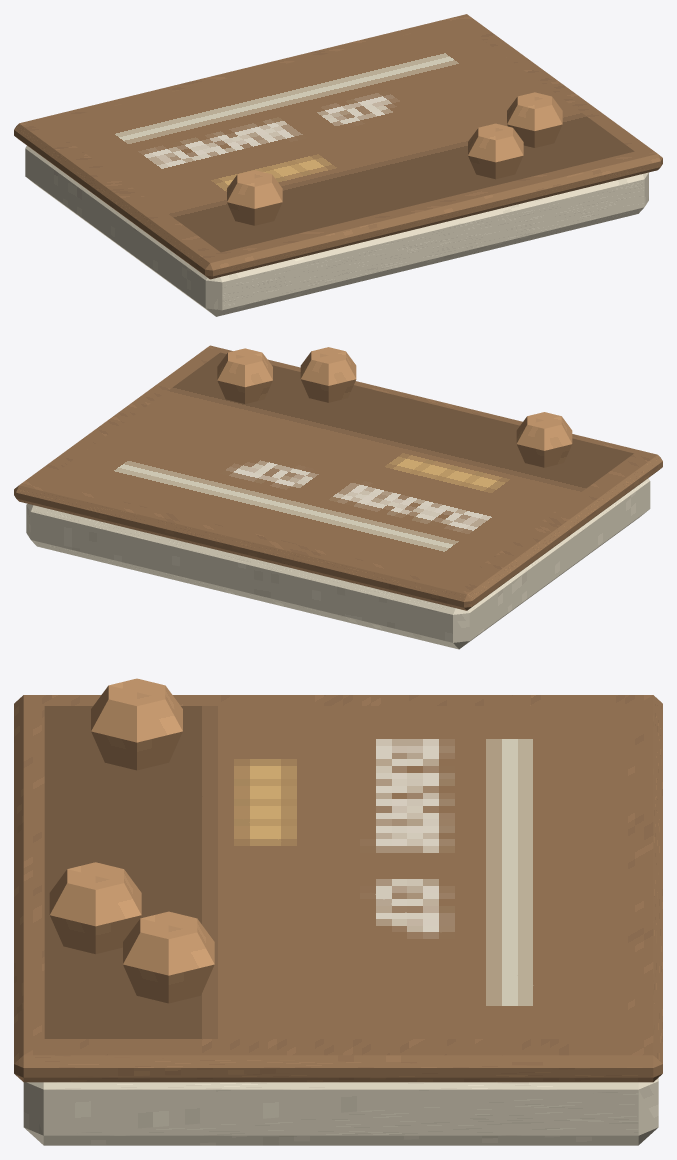
File: dnd_3.glb
The picture shows the model from 3 angles, top to bottom: view 1: azimuth 30°, elevation 25°; view 2: azimuth 150°, elevation 25°; view 3: azimuth 270°, elevation 25°; orthographic projection. The views are drawn at different scales.
Parts seen in each view (by area): view 1: block_printed original game cover, block_roleplaying rulebook, block_printed rulebook cover, block_game die (×3); view 2: block_printed original game cover, block_roleplaying rulebook, block_printed rulebook cover, block_game die (×3); view 3: block_printed original game cover, block_printed rulebook cover, block_roleplaying rulebook, block_game die (×3).
Boxes of the visible parts, <box> form: block_printed original game cover: <box>44,22,634,252</box>; block_roleplaying rulebook: <box>25,146,648,316</box>; block_printed rulebook cover: <box>14,14,662,279</box>; block_game die (×3): <box>227,92,562,225</box>; block_printed original game cover: <box>44,352,633,582</box>; block_roleplaying rulebook: <box>26,478,650,649</box>; block_printed rulebook cover: <box>14,345,662,610</box>; block_game die (×3): <box>217,347,572,467</box>; block_printed original game cover: <box>44,706,627,1038</box>; block_printed rulebook cover: <box>14,695,662,1082</box>; block_roleplaying rulebook: <box>23,1078,658,1145</box>; block_game die (×3): <box>49,678,214,1003</box>.
Size of the model in its own units: 0.2047 by 0.0433 by 0.1524.
Materials: 1 (1 with a texture image).
